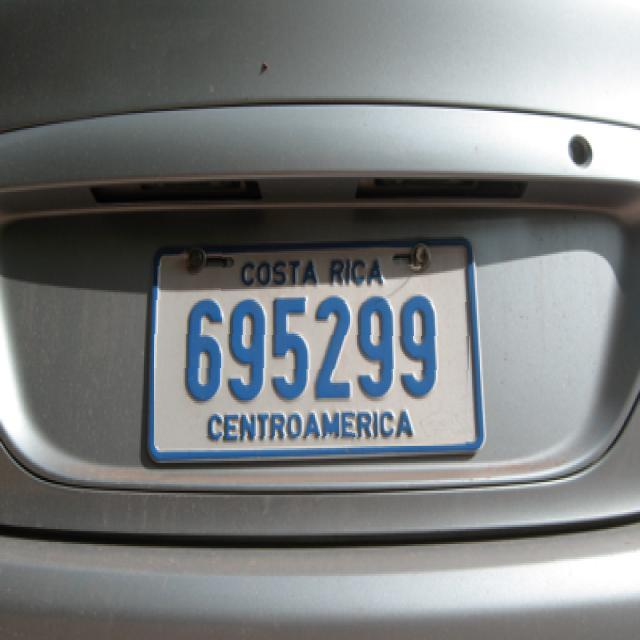licence: (154, 249, 472, 446)
